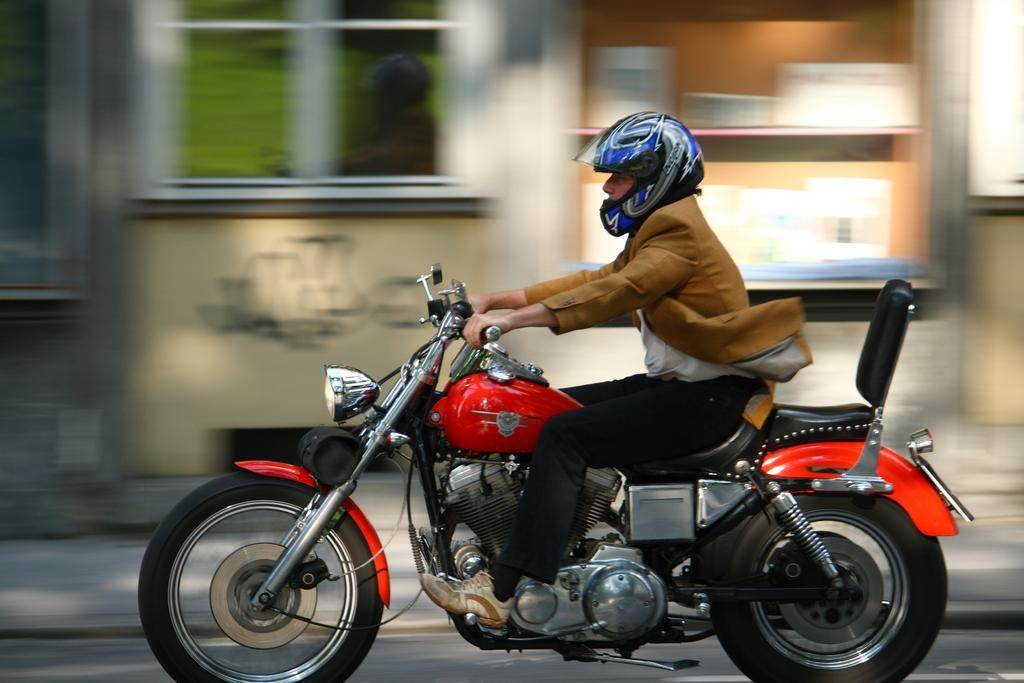helmet: (570, 109, 707, 239)
